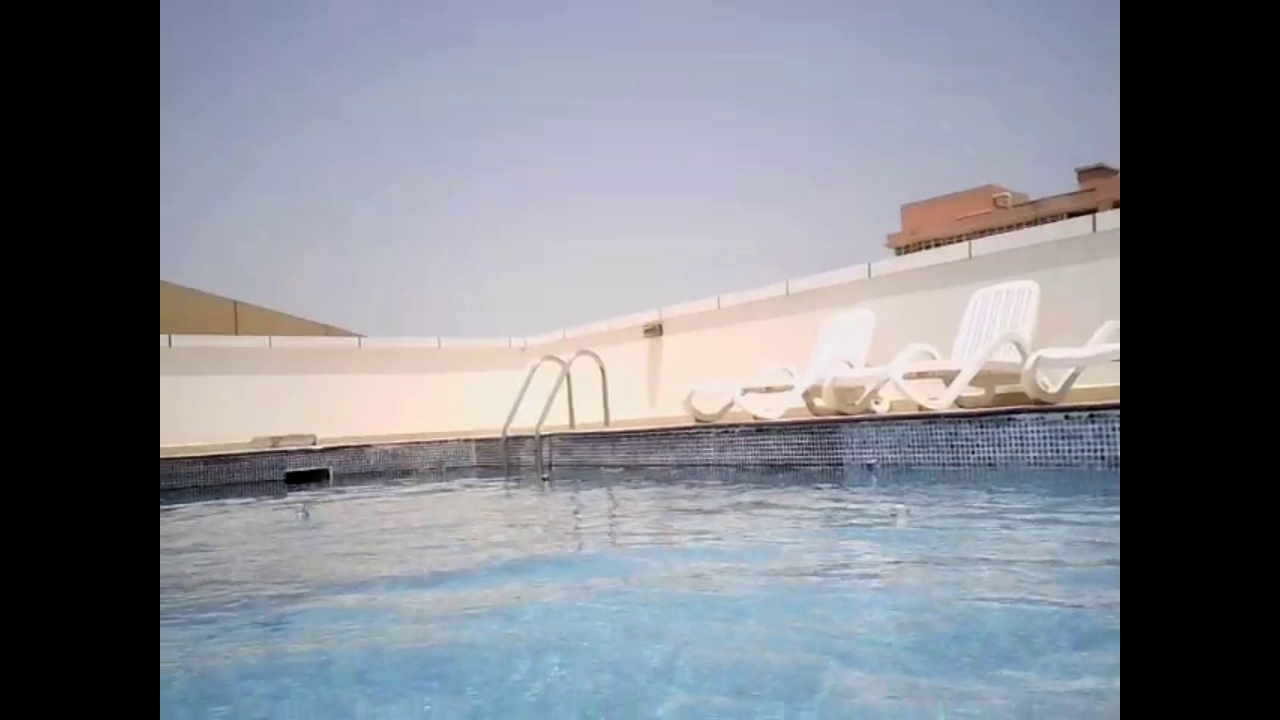debris: (881, 497, 914, 532), (860, 456, 884, 481), (291, 507, 312, 523), (538, 470, 550, 485)
